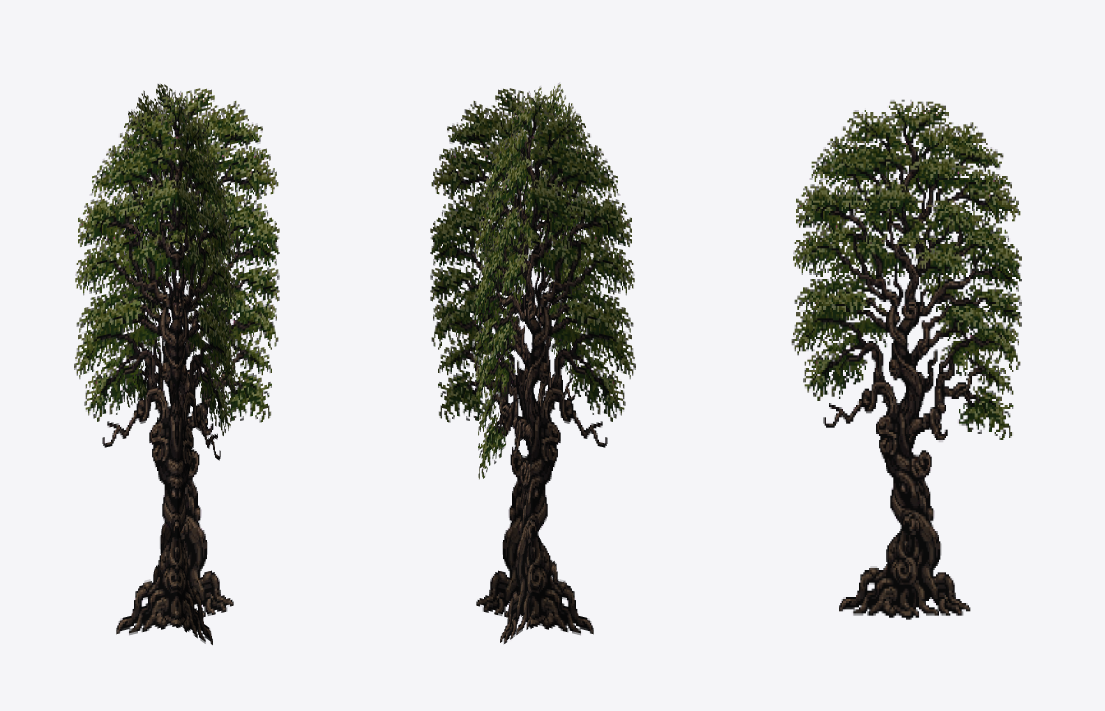
The model's file is tree_v2_01.glb.
The picture shows the model from 3 angles, left to right: view 1: azimuth 30°, elevation 25°; view 2: azimuth 150°, elevation 25°; view 3: azimuth 270°, elevation 25°; orthographic projection. The views are drawn at different scales.
Visible parts, largest first — view 1: tree_v2_01; view 2: tree_v2_01; view 3: tree_v2_01.
Boxes of the visible parts, bbox=[...] form: tree_v2_01: bbox=[74, 84, 279, 644]; tree_v2_01: bbox=[430, 83, 635, 643]; tree_v2_01: bbox=[791, 99, 1021, 619].
Size of the model in its own units: 10.8 by 17.2 by 10.8.
Materials: 1 (1 with a texture image).
